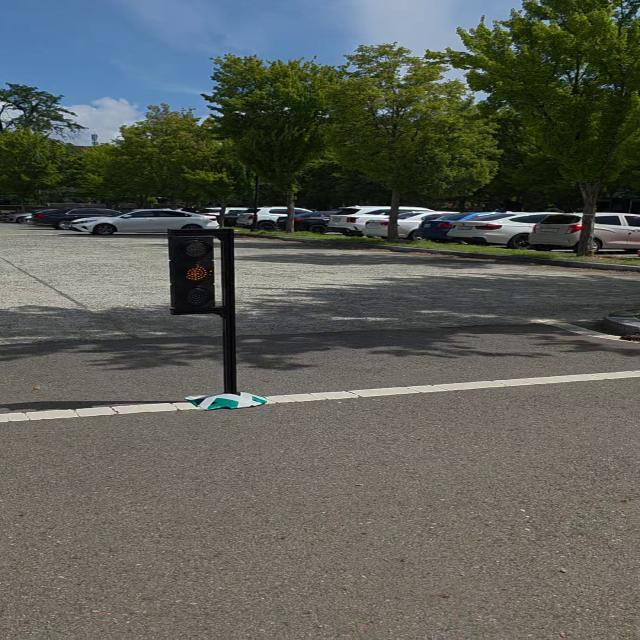yellow: (158, 230, 232, 320)
